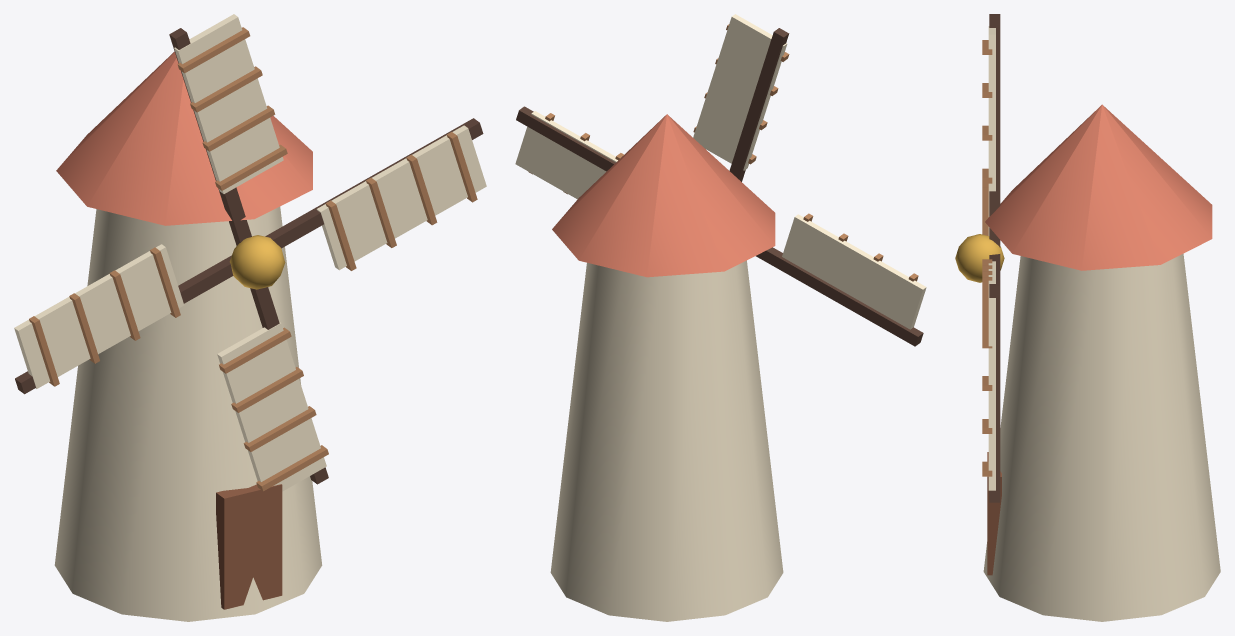
File: windmill.glb
3 renders of one model, left to right at view 1: azimuth 30°, elevation 25°; view 2: azimuth 150°, elevation 25°; view 3: azimuth 270°, elevation 25°, orthographic. The views are drawn at different scales.
Visible parts, largest first — view 1: surface_#fff2d6, board (×24), surface_#df8269, surface_#936047, soft_shape; view 2: surface_#fff2d6, board (×6), surface_#df8269; view 3: surface_#fff2d6, surface_#df8269, board (×6), soft_shape, surface_#936047.
Part boxes in pixels (x1,y1,x2,y2): surface_#fff2d6: [54, 206, 322, 621]; board (×24): [14, 14, 486, 491]; surface_#df8269: [56, 51, 312, 225]; surface_#936047: [216, 484, 282, 609]; soft_shape: [229, 235, 285, 289]; surface_#fff2d6: [550, 260, 783, 621]; board (×6): [515, 14, 926, 346]; surface_#df8269: [552, 114, 775, 277]; surface_#fff2d6: [983, 253, 1220, 621]; surface_#df8269: [985, 104, 1212, 270]; board (×6): [982, 14, 1000, 502]; soft_shape: [955, 234, 1004, 282]; surface_#936047: [987, 452, 1001, 575].
Size of the model in its own units: 3.88 by 4.74 by 2.15.
